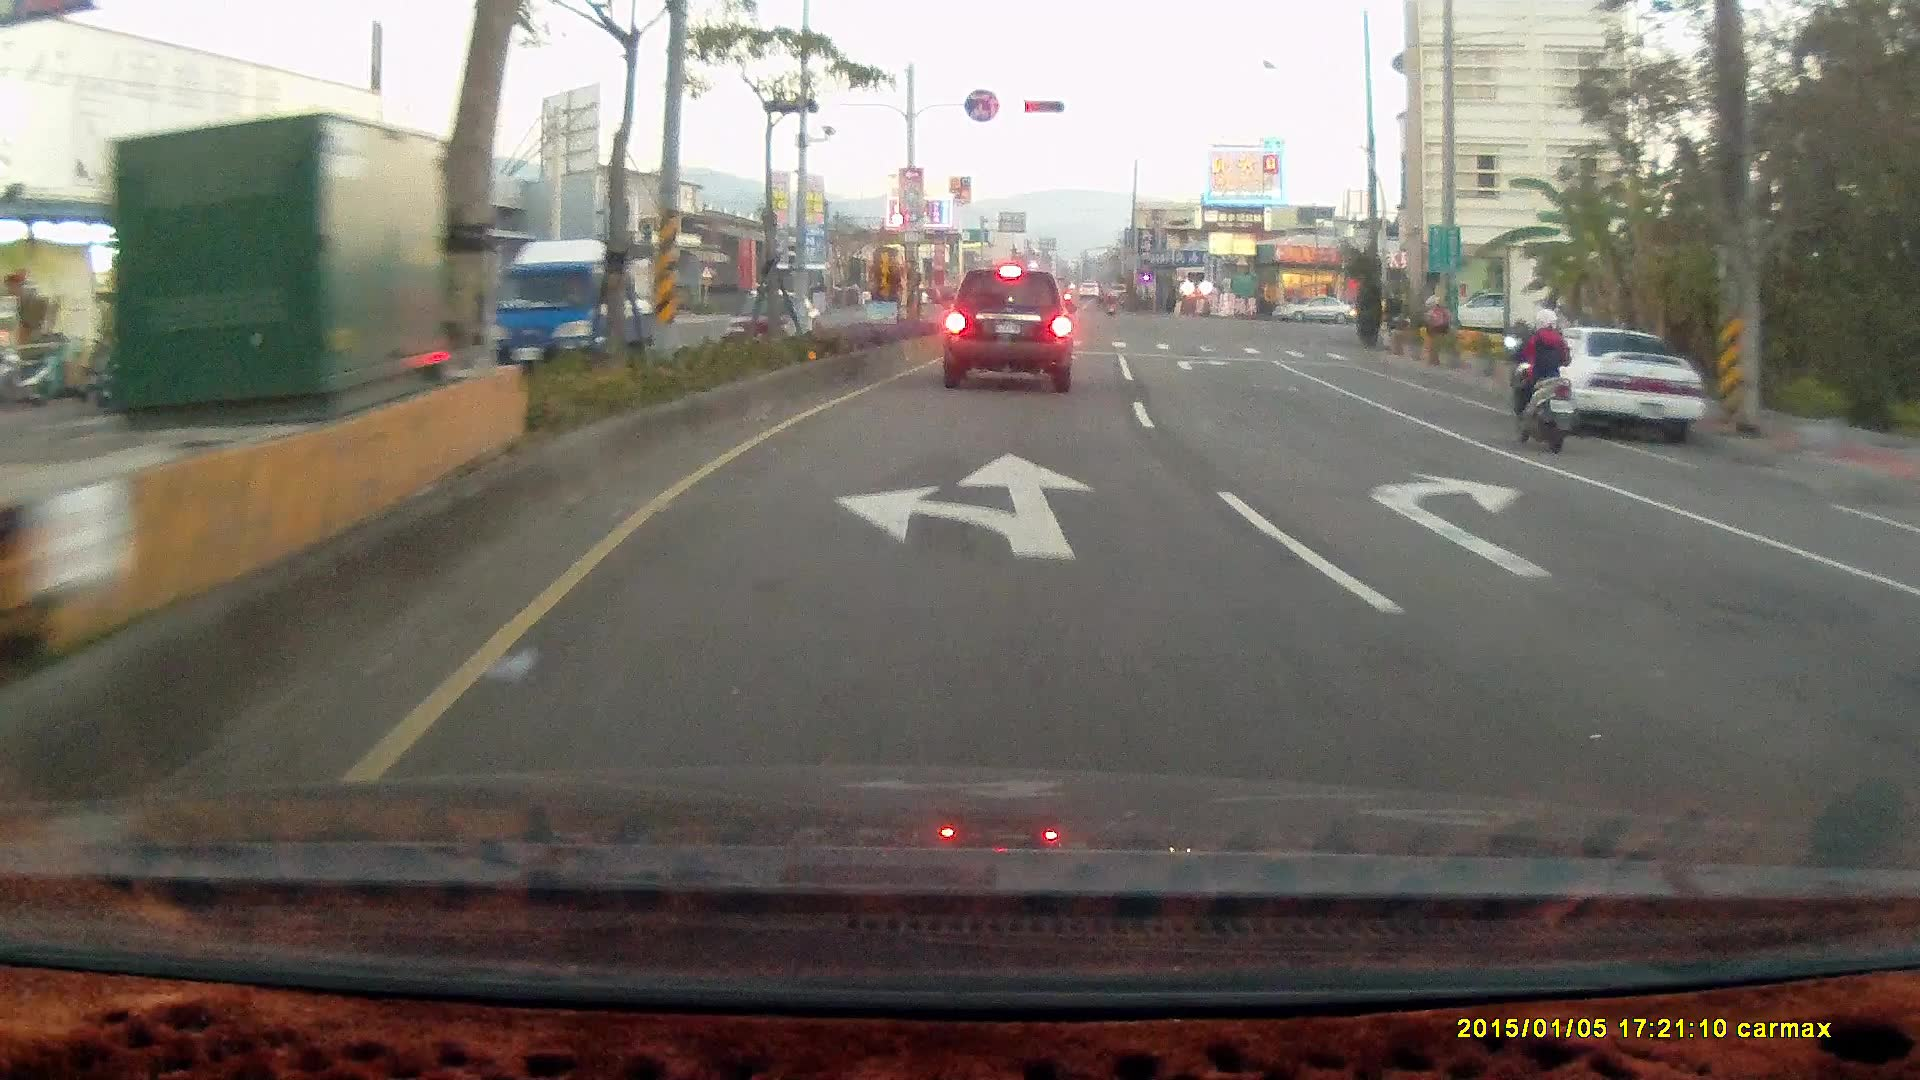rider: (1499, 305, 1579, 452)
vehicle: (471, 236, 664, 377), (1517, 326, 1705, 443), (1521, 328, 1714, 439), (941, 267, 1075, 392), (1896, 493, 1920, 836), (1883, 528, 1920, 690), (1432, 288, 1533, 335), (1272, 292, 1356, 324)
